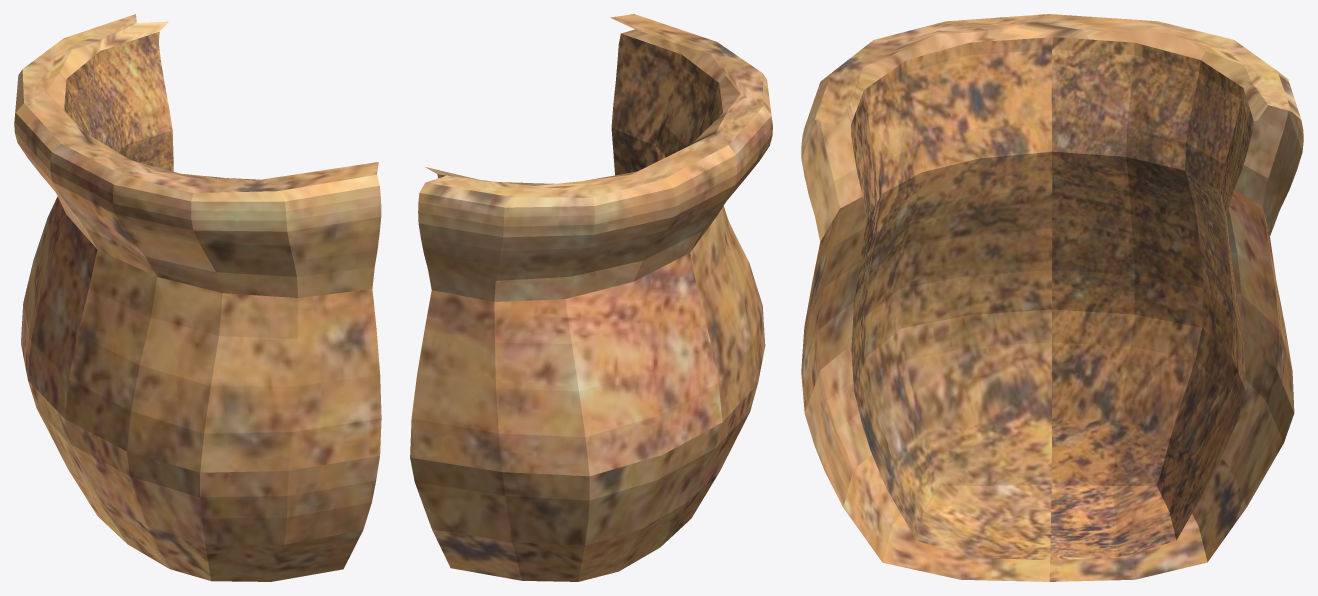
File: mybeaker-left.obj
The picture shows the model from 3 angles, left to right: view 1: azimuth 30°, elevation 25°; view 2: azimuth 150°, elevation 25°; view 3: azimuth 270°, elevation 25°; orthographic projection. The views are drawn at different scales.
Parts seen in each view (by area): view 1: Cylinder.001_Cylinder.002; view 2: Cylinder.001_Cylinder.002; view 3: Cylinder.001_Cylinder.002.
Boxes of the visible parts, x1,y1,x2,y2 form: Cylinder.001_Cylinder.002: (14,14,381,581); Cylinder.001_Cylinder.002: (410,14,772,581); Cylinder.001_Cylinder.002: (801,14,1303,581).
Bounding box in the file's own units: 0.2516 × 0.4613 × 0.4526.
Materials: 1 (1 with a texture image).
